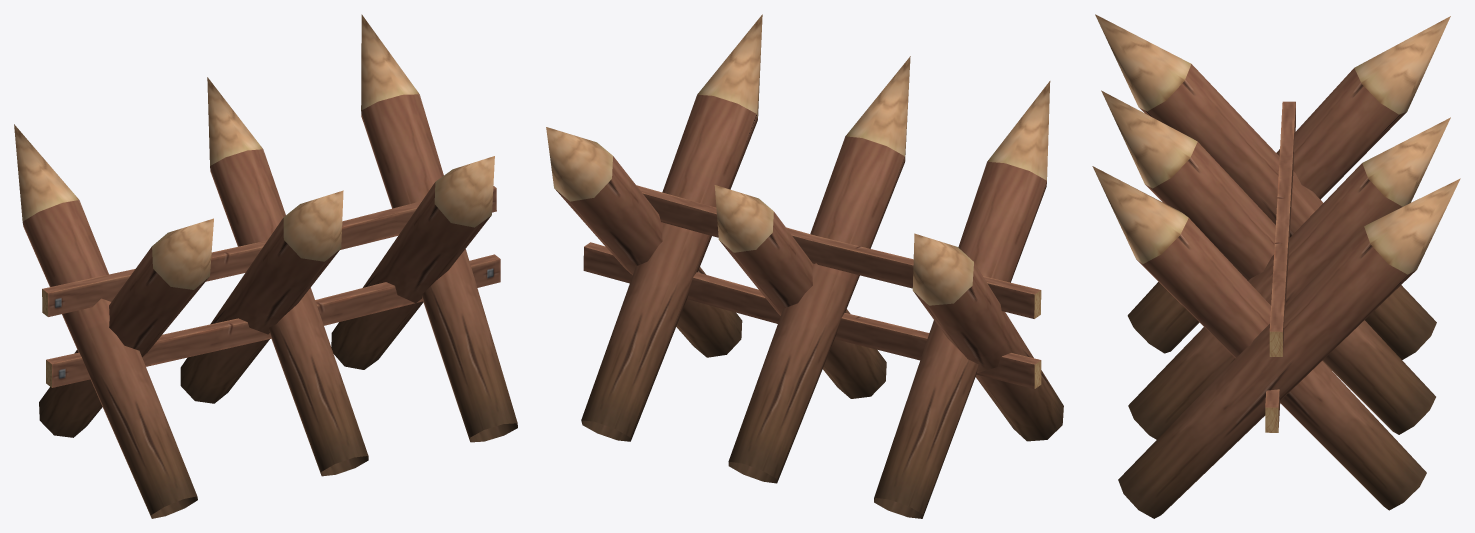
Rendered from wooden_barrier_01.fbx.
3 renders of one model, left to right at view 1: azimuth 30°, elevation 25°; view 2: azimuth 150°, elevation 25°; view 3: azimuth 270°, elevation 25°, orthographic. The views are drawn at different scales.
Visible parts, largest first — view 1: wooden_barrier_01:Mesh; view 2: wooden_barrier_01:Mesh; view 3: wooden_barrier_01:Mesh.
Part boxes in pixels (box(x1,y1,x2,y2)): wooden_barrier_01:Mesh: box(14, 14, 517, 518); wooden_barrier_01:Mesh: box(546, 14, 1063, 518); wooden_barrier_01:Mesh: box(1092, 14, 1460, 518).
Size of the model in its own units: 1.73 by 1.2 by 1.15.
1 material, 1 textured.
